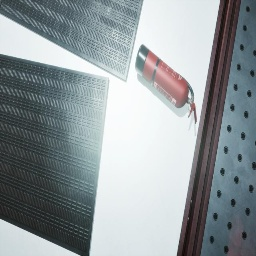FireExtinguisher ]: (135, 44, 197, 124)
